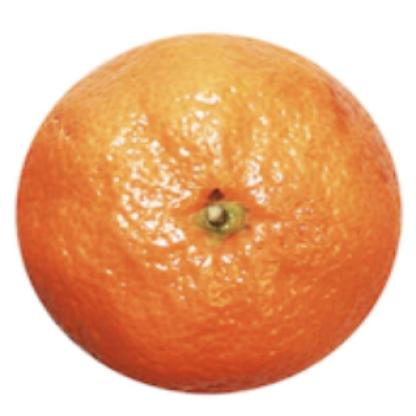fresh: (19, 35, 404, 391)
